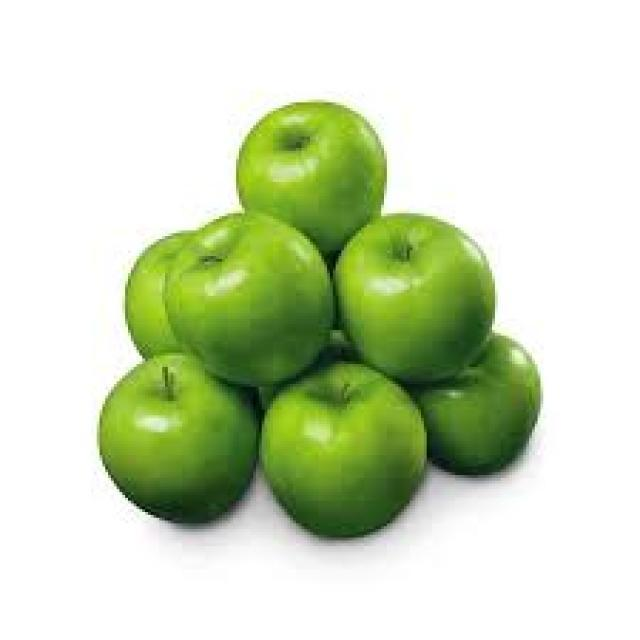Green Apple: (163, 212, 335, 387), (261, 362, 429, 538), (333, 213, 496, 383), (97, 353, 258, 524), (236, 100, 388, 255), (417, 332, 543, 475)
